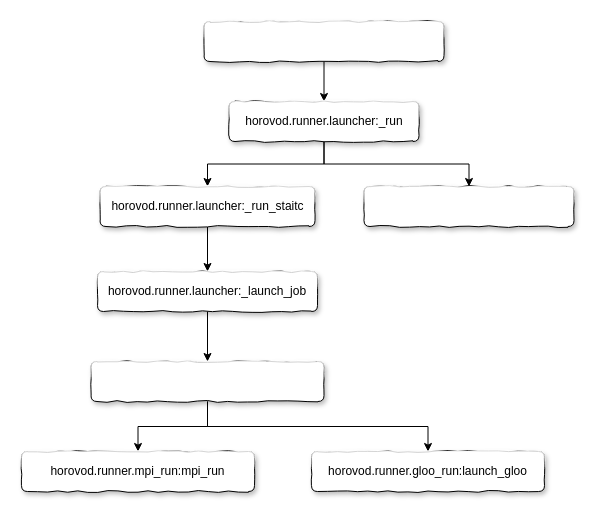
Some shapes in this 598 by 516 pixel diagram are drawn without their labels. Here are the shapes that lost their labels. From the top down, the centre of each, then its label:
(324,42): horovod.runner.launcher:run_commandline
(469,208): horovod.runner.launcher:_run_elastic
(208,382): horovod.runner.launcher:run_controller
